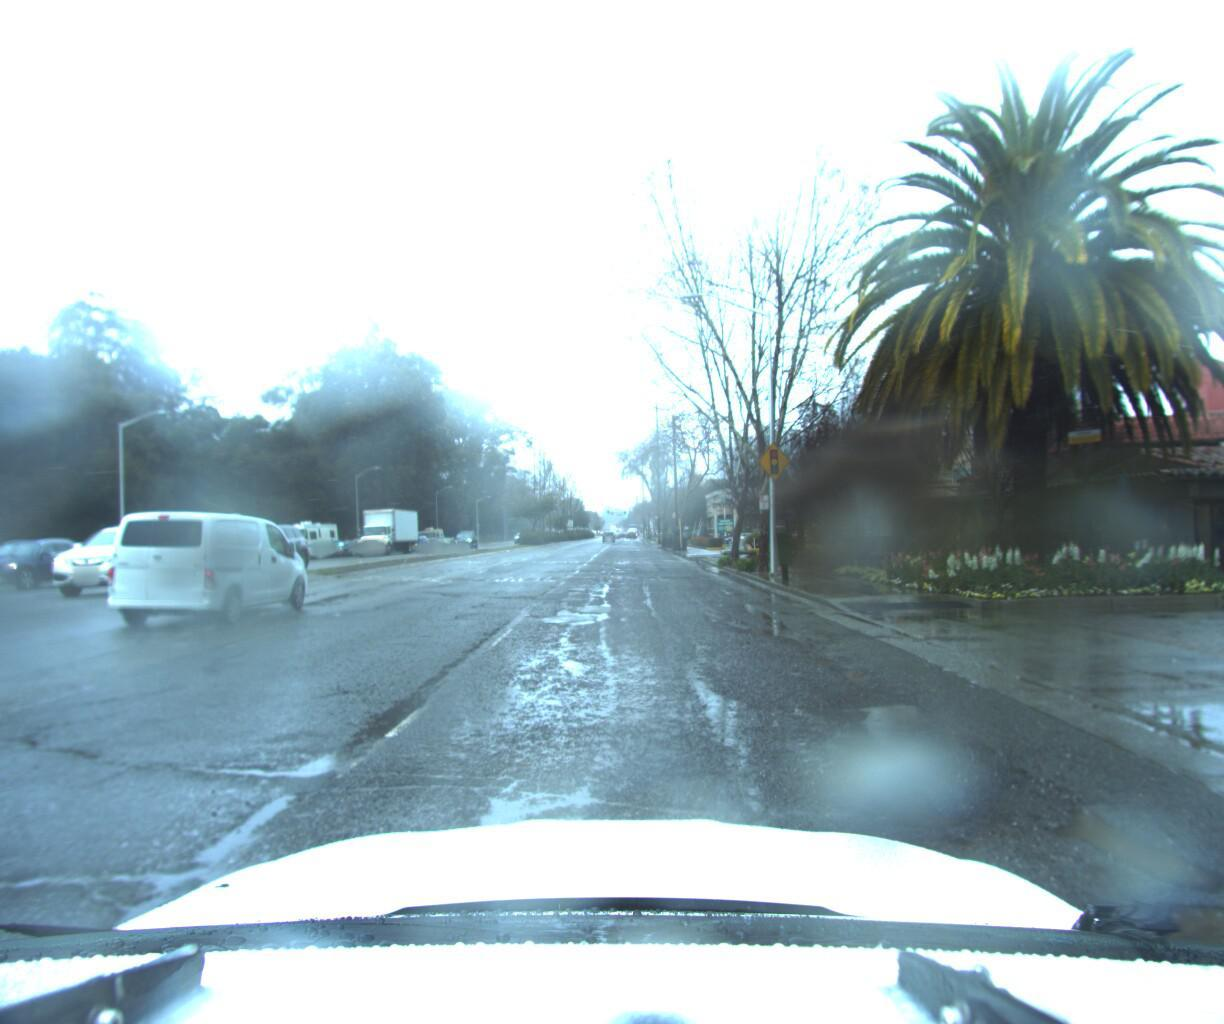car: (106, 513, 322, 628), (34, 522, 219, 600), (0, 538, 97, 596)
other_vehicle: (132, 511, 270, 575), (267, 517, 343, 562)
truck: (349, 505, 425, 558)
